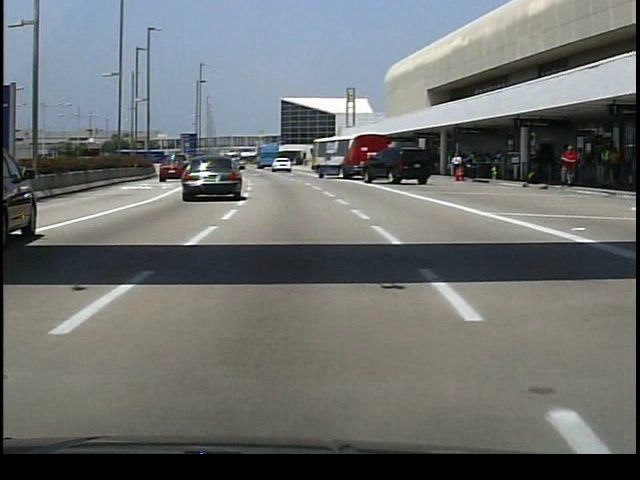person: (555, 142, 581, 190), (622, 151, 640, 188), (450, 152, 466, 184)
